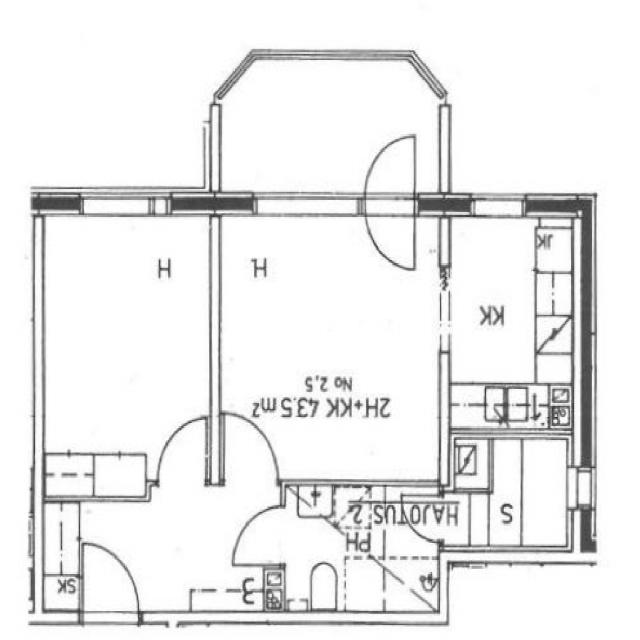door: (83, 546, 139, 624), (365, 192, 414, 275), (365, 132, 414, 215), (224, 415, 278, 486), (157, 421, 207, 486), (235, 508, 286, 565), (400, 491, 450, 539)
